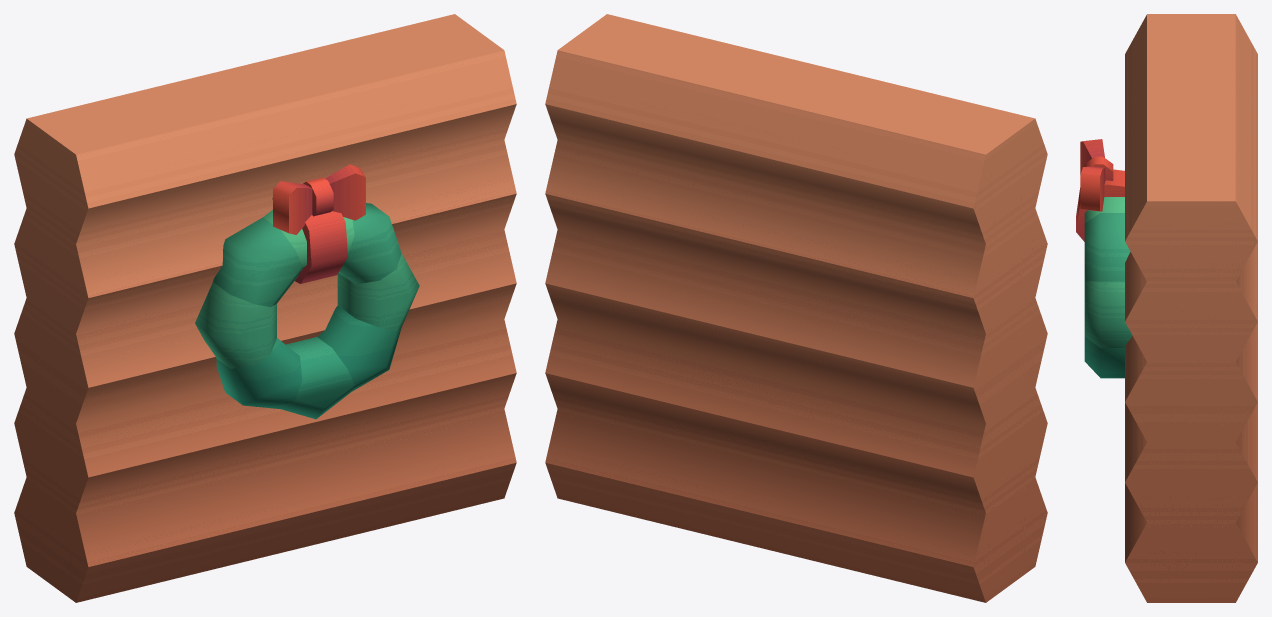
File: cabin-wall-wreath.glb
The picture shows the model from 3 angles, left to right: view 1: azimuth 30°, elevation 25°; view 2: azimuth 150°, elevation 25°; view 3: azimuth 270°, elevation 25°; orthographic projection. The views are drawn at different scales.
Parts seen in each view (by area): view 1: cabin-wall-wreath; view 2: cabin-wall-wreath; view 3: cabin-wall-wreath.
Boxes of the visible parts, x1,y1,x2,y2 form: cabin-wall-wreath: [14, 14, 516, 602]; cabin-wall-wreath: [545, 14, 1047, 602]; cabin-wall-wreath: [1076, 14, 1257, 602].
Bounding box in the file's own units: 3 × 3 × 1.23.
Materials: 1 (1 with a texture image).
